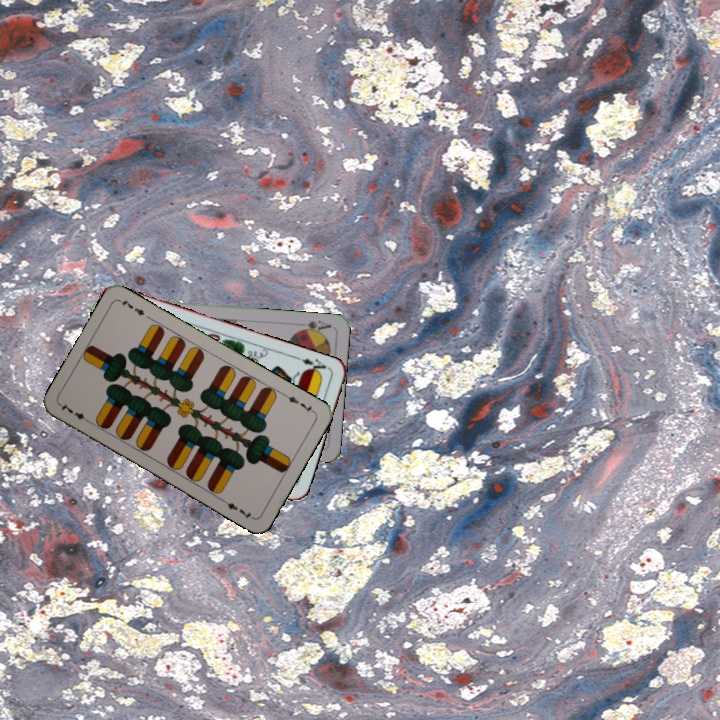E7: (57, 399, 93, 426), (280, 390, 317, 415)
EA: (292, 353, 332, 377)
SA: (294, 316, 334, 336)
